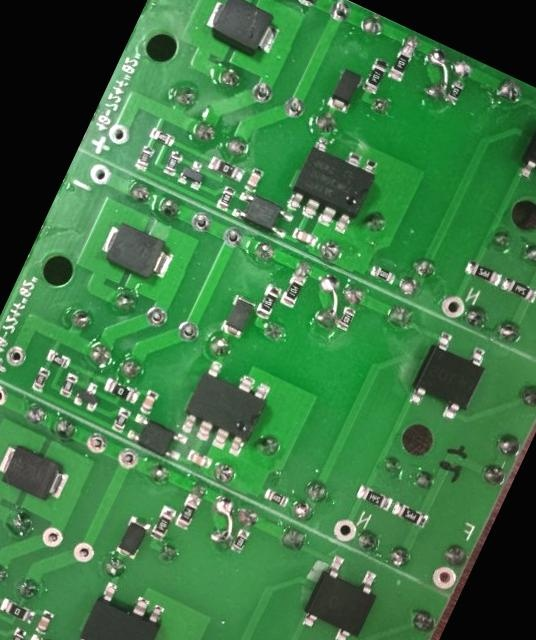chip-capacitor: (240, 163, 266, 193), (183, 445, 214, 470), (288, 224, 319, 248), (136, 387, 160, 416), (32, 607, 55, 636)
chip-resistor: (351, 481, 394, 513), (461, 256, 504, 288), (205, 152, 246, 184), (100, 374, 142, 405), (389, 497, 431, 528), (147, 501, 178, 542), (251, 280, 282, 320), (497, 273, 536, 304), (172, 490, 202, 530), (276, 271, 307, 309), (0, 594, 36, 624), (384, 47, 412, 82), (360, 61, 387, 95), (108, 403, 133, 434), (366, 260, 397, 285), (212, 182, 237, 212), (56, 369, 80, 399), (131, 142, 155, 172), (160, 147, 184, 177), (43, 346, 72, 370), (442, 76, 466, 105), (28, 363, 51, 393), (260, 485, 290, 508), (146, 124, 176, 147), (228, 524, 251, 553), (334, 302, 357, 331), (4, 624, 28, 640)
diode: (95, 215, 178, 286), (0, 437, 74, 507), (202, 0, 286, 57), (216, 290, 258, 340), (323, 64, 364, 114), (112, 511, 152, 561)
ic: (175, 353, 278, 460), (281, 132, 383, 236), (403, 325, 494, 427), (295, 549, 387, 640), (71, 577, 171, 640), (123, 409, 191, 463), (229, 188, 296, 240), (511, 99, 536, 198)
transistor: (69, 375, 105, 414), (173, 155, 209, 192)
